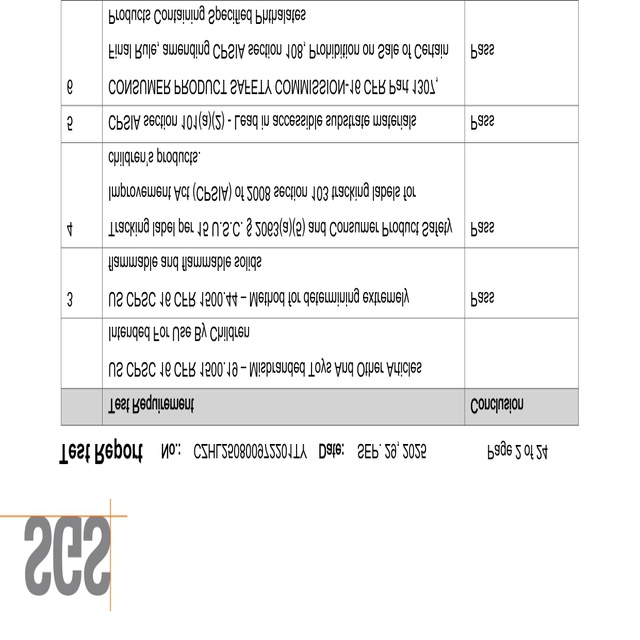sgs: (23, 516, 112, 597)
